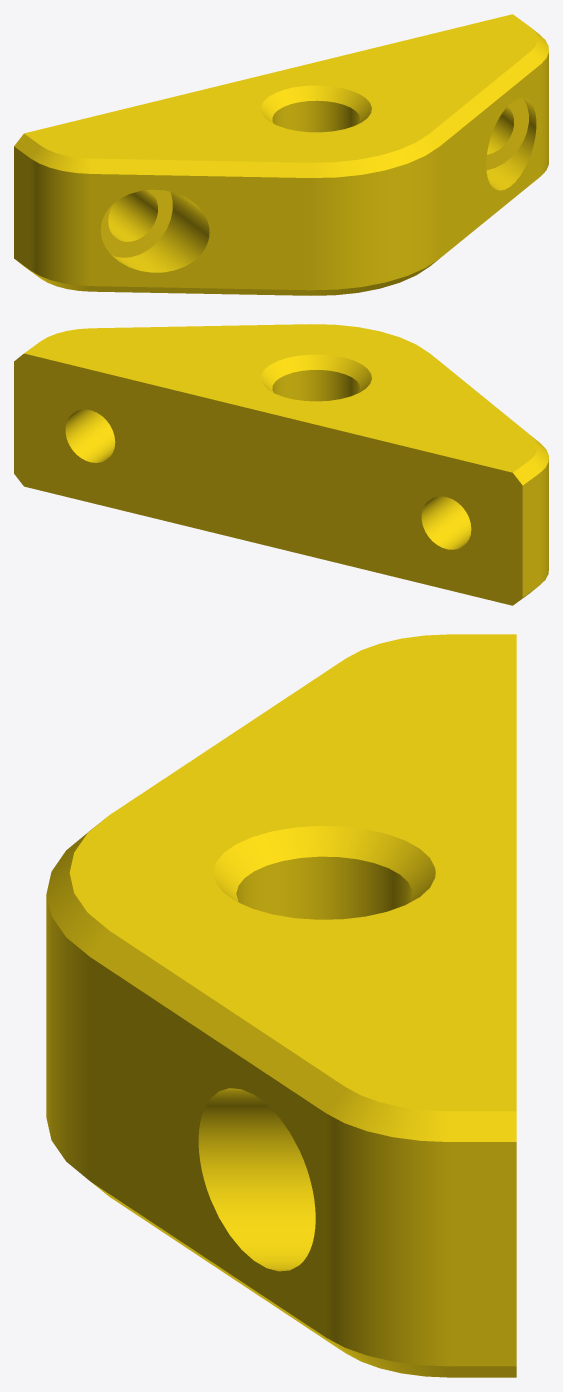
File: A26_S110_bearingBlock.gltf
3 views of the same model, one above another, from view 1: azimuth 30°, elevation 25°; view 2: azimuth 150°, elevation 25°; view 3: azimuth 270°, elevation 25° (orthographic). The views are drawn at different scales.
Parts seen in each view (by area): view 1: mesh35756, mesh35761, mesh35748, mesh35760, mesh35752, mesh35758, mesh35762, mesh35736, mesh35755, mesh35757, mesh35737, mesh35764 (+10 smaller); view 2: mesh35765, mesh35756, mesh35736, mesh35764, mesh35767, mesh35751, mesh35737, mesh35752, mesh35759, mesh35753; view 3: mesh35756, mesh35760, mesh35744, mesh35766, mesh35742, mesh35748, mesh35755, mesh35736, mesh35737, mesh35754, mesh35757, mesh35745 (+1 smaller).
Part boxes in pixels (x1=…): mesh35756: x1=24, y1=14, x2=537, y2=162; mesh35761: x1=91, y1=174, x2=310, y2=290; mesh35748: x1=310, y1=147, x2=439, y2=290; mesh35760: x1=439, y1=64, x2=540, y2=258; mesh35752: x1=30, y1=159, x2=90, y2=285; mesh35758: x1=91, y1=158, x2=310, y2=177; mesh35762: x1=111, y1=192, x2=209, y2=272; mesh35736: x1=272, y1=100, x2=360, y2=132; mesh35755: x1=429, y1=51, x2=540, y2=146; mesh35757: x1=310, y1=134, x2=439, y2=177; mesh35737: x1=261, y1=85, x2=371, y2=123; mesh35764: x1=108, y1=190, x2=157, y2=241; mesh35765: x1=14, y1=353, x2=522, y2=605; mesh35756: x1=24, y1=324, x2=537, y2=472; mesh35736: x1=272, y1=370, x2=360, y2=401; mesh35764: x1=421, y1=496, x2=471, y2=549; mesh35767: x1=65, y1=409, x2=115, y2=462; mesh35751: x1=522, y1=474, x2=539, y2=597; mesh35737: x1=261, y1=354, x2=371, y2=392; mesh35752: x1=539, y1=459, x2=548, y2=585; mesh35759: x1=529, y1=436, x2=548, y2=473; mesh35753: x1=513, y1=460, x2=538, y2=485; mesh35756: x1=69, y1=634, x2=516, y2=1111; mesh35760: x1=90, y1=957, x2=326, y2=1337; mesh35744: x1=326, y1=1113, x2=449, y2=1366; mesh35766: x1=198, y1=1088, x2=315, y2=1271; mesh35742: x1=450, y1=1142, x2=516, y2=1366; mesh35748: x1=46, y1=894, x2=89, y2=1180; mesh35755: x1=90, y1=931, x2=345, y2=1113; mesh35736: x1=236, y1=856, x2=412, y2=919; mesh35737: x1=213, y1=826, x2=435, y2=902; mesh35754: x1=326, y1=1087, x2=449, y2=1141; mesh35757: x1=46, y1=820, x2=109, y2=956; mesh35745: x1=450, y1=1111, x2=516, y2=1141.
Size of the model in its own units: 0.0508 by 0.0127 by 0.0203.
